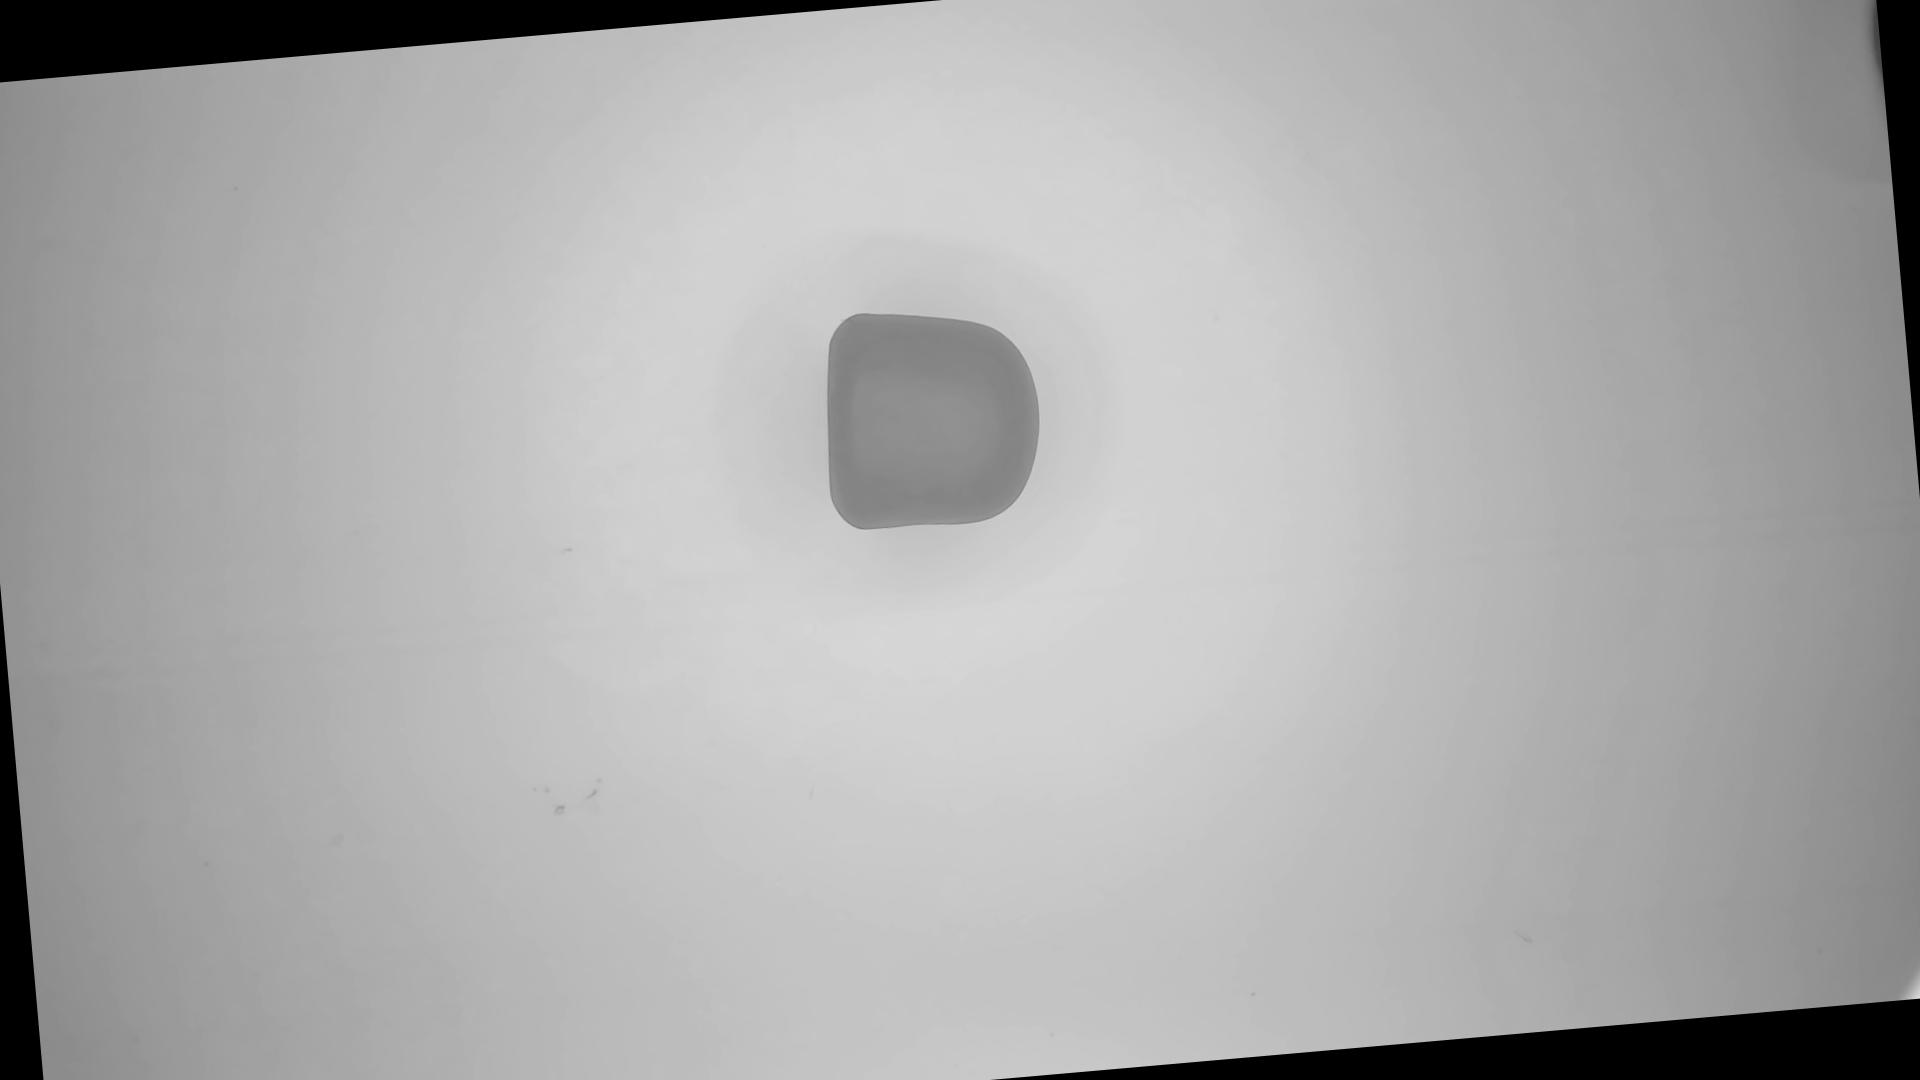normal: (814, 294, 1054, 542)
